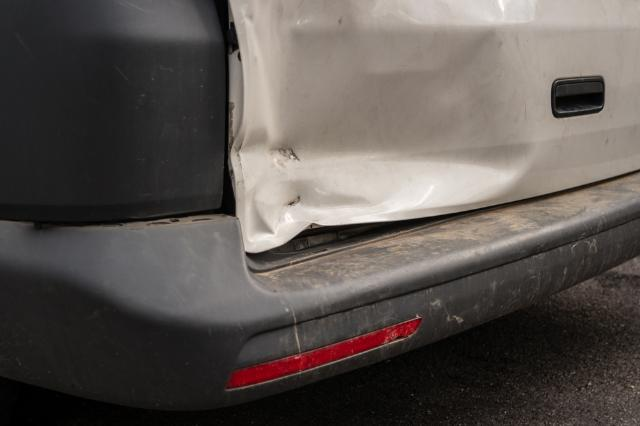dent: (232, 0, 539, 253)
